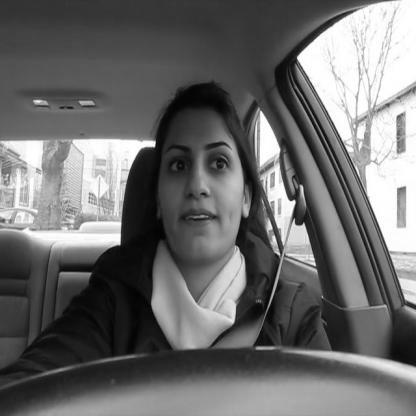seatbelt: (145, 62, 311, 348)
